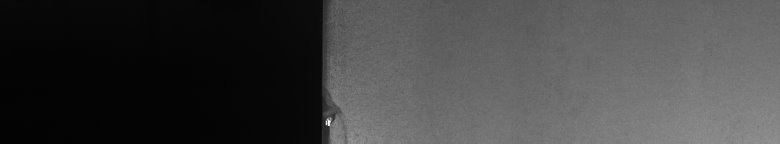hb: (332, 93, 352, 136)
